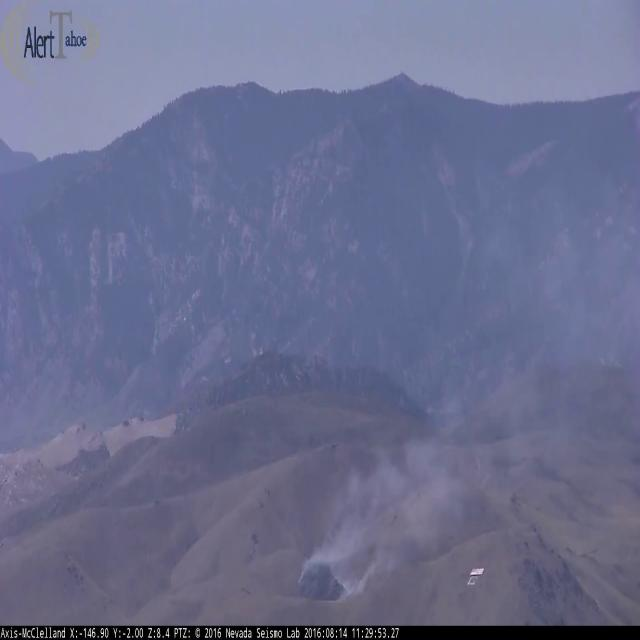smoke: (300, 204, 640, 602)
